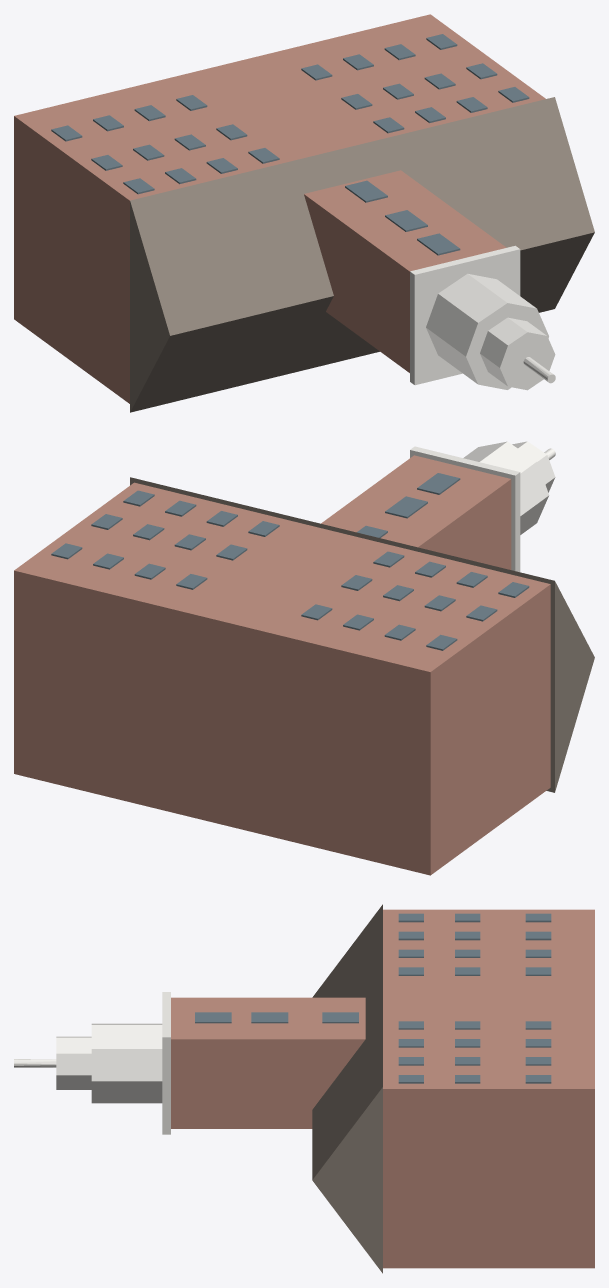
Rendered from r-153-harvard-house-tower.glb.
The picture shows the model from 3 angles, top to bottom: view 1: azimuth 30°, elevation 25°; view 2: azimuth 150°, elevation 25°; view 3: azimuth 270°, elevation 25°; orthographic projection. The views are drawn at different scales.
Visible parts, largest first — view 1: brick, roof, cupola, windows; view 2: brick, windows, roof, cupola; view 3: brick, roof, cupola, windows.
Part boxes in pixels (box(x1,y1,x2,y2)): brick: box(14, 14, 545, 403); roof: box(130, 97, 594, 412); cupola: box(410, 245, 555, 390); windows: box(51, 34, 529, 255); brick: box(14, 455, 550, 875); windows: box(51, 473, 529, 650); roof: box(130, 477, 594, 792); cupola: box(410, 441, 555, 572); brick: box(171, 909, 594, 1268); roof: box(312, 904, 382, 1273); cupola: box(14, 992, 170, 1134); windows: box(195, 913, 551, 1083).
Bounding box in the file's own units: 30600 × 14599 × 41100.
